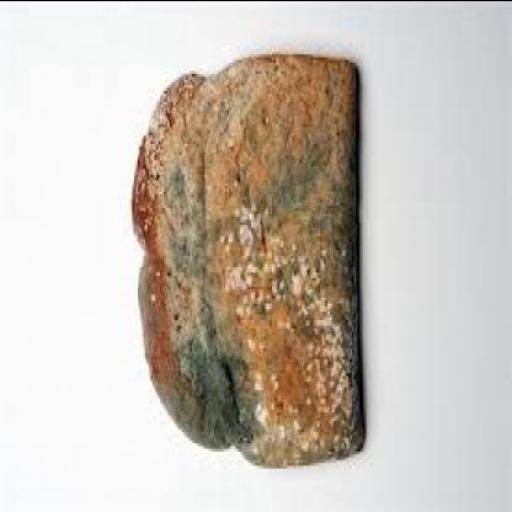biodegradable: (131, 54, 363, 470)
